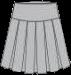Hemline: (0, 64, 70, 73)
Waistline: (11, 17, 59, 21), (14, 2, 56, 4)
